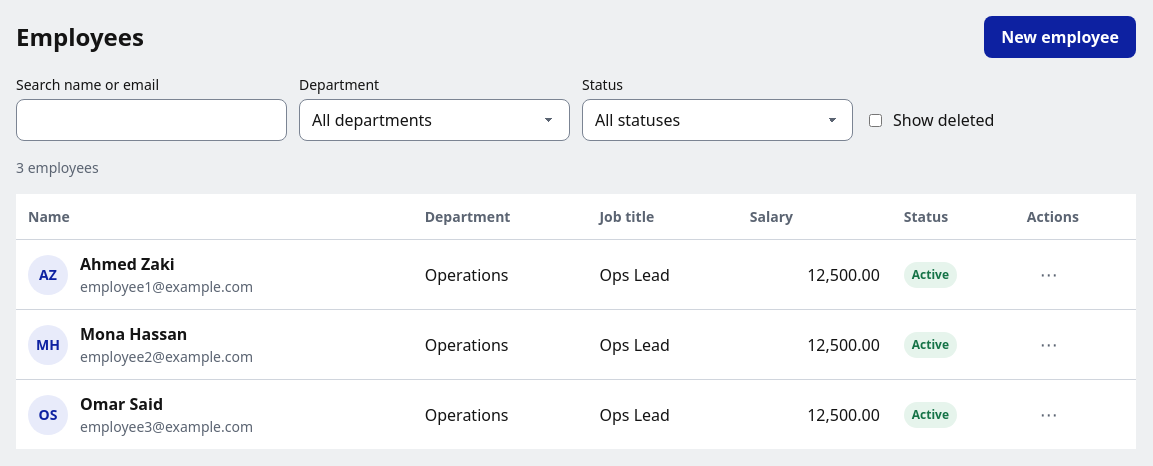
Test: Employee delete - row menu (edge case 1) › lists Edit, Payslip, then Delete on active rows
This screenshot has width=1153, height=466.
Check: the table is shown, box [16,194,1136,449]
Click the button named "Actions for Ahmed Zaki". click: (1049, 274)
box: [1027,256,1071,293]
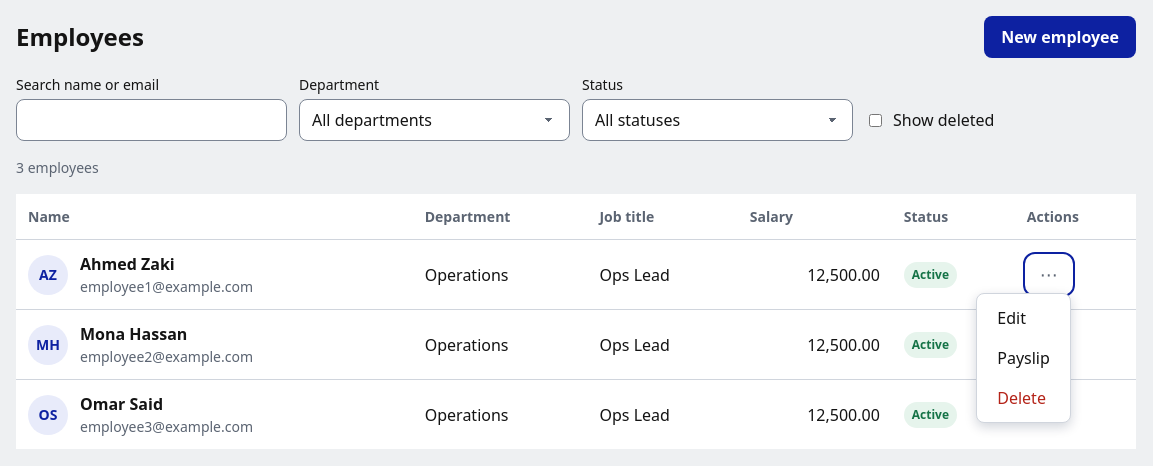
Check: the menu items read "Edit", "Payslip", "Delete", in this order, box [981,298,1066,338]; [981,338,1066,378]; [981,378,1066,418]
